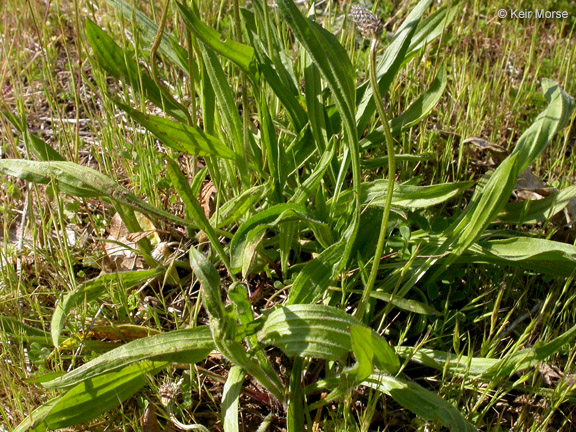buckhorn plantain: (102, 10, 420, 376)
